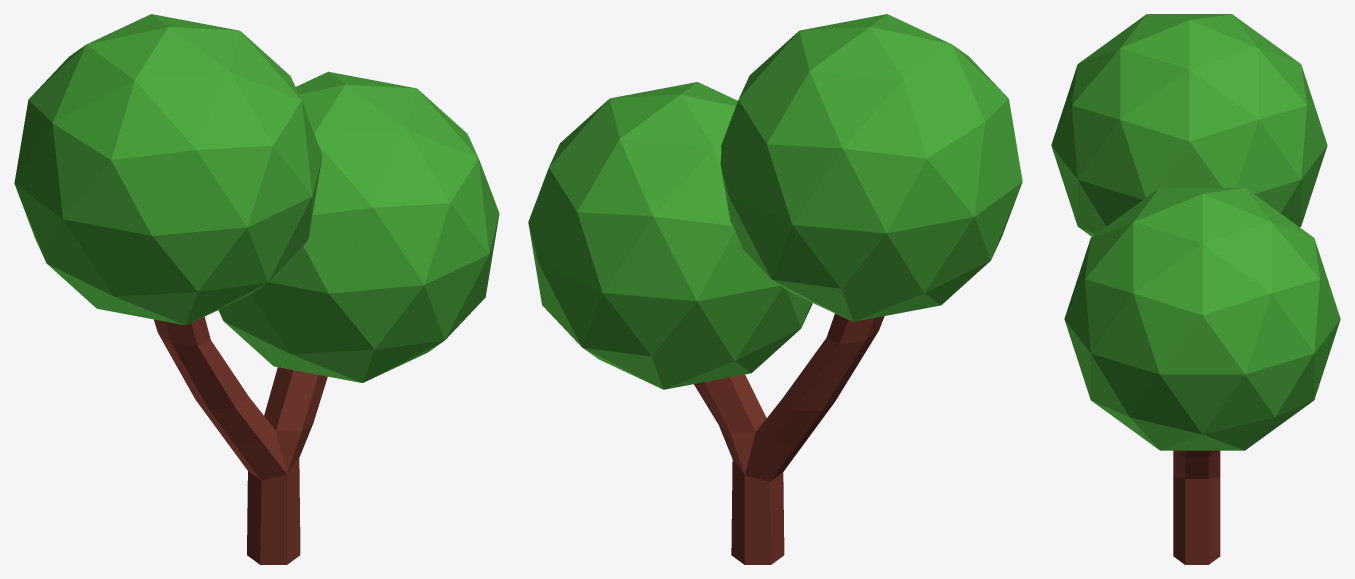
The model's file is Tree1.fbx.
The picture shows the model from 3 angles, left to right: view 1: azimuth 30°, elevation 25°; view 2: azimuth 150°, elevation 25°; view 3: azimuth 270°, elevation 25°; orthographic projection. The views are drawn at different scales.
Parts seen in each view (by area): view 1: Tree1; view 2: Tree1; view 3: Tree1.
Boxes of the visible parts, bbox=[...] form: Tree1: bbox=[14, 14, 499, 564]; Tree1: bbox=[528, 14, 1022, 564]; Tree1: bbox=[1051, 14, 1340, 564].
Bounding box in the file's own units: 1653 × 1985 × 1064.
